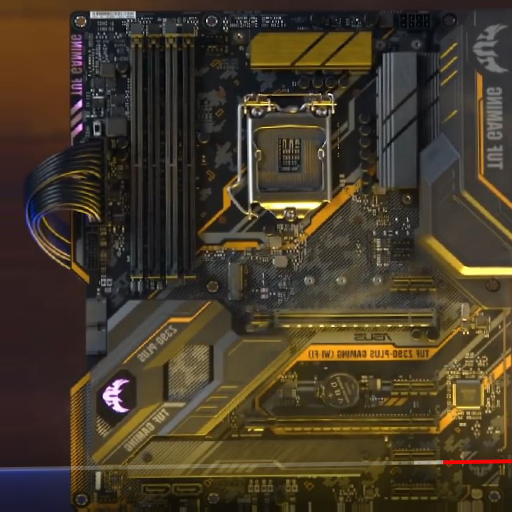CPU: (245, 91, 331, 221)
GPU: (247, 307, 439, 334), (236, 413, 440, 436)
MOTHERBOARD: (73, 9, 511, 509)
RAM: (127, 24, 198, 295)
SSD: (226, 260, 249, 303)
